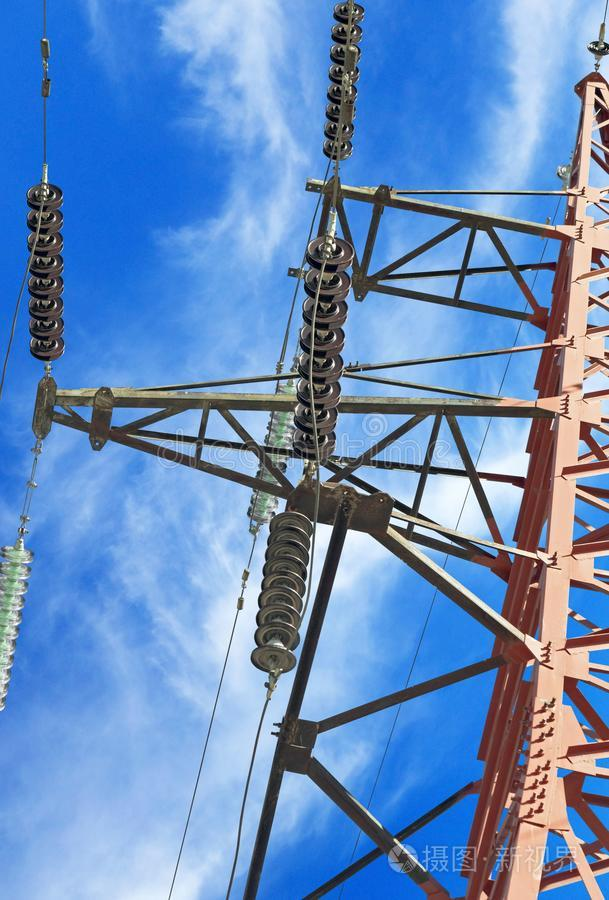insulator: (297, 231, 354, 463), (253, 510, 311, 675), (22, 188, 72, 360), (246, 383, 294, 526), (324, 4, 364, 158), (1, 543, 33, 704)
